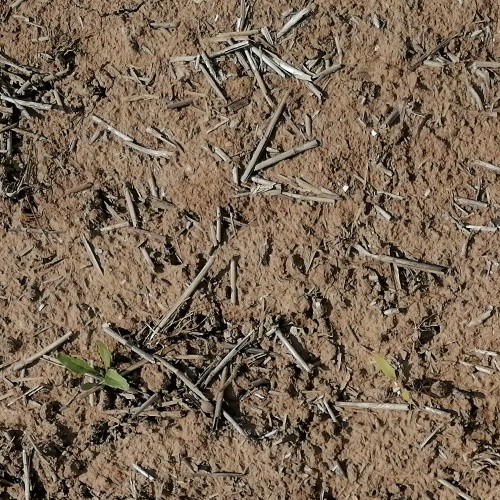beet: (58, 343, 130, 392), (364, 343, 411, 405)
